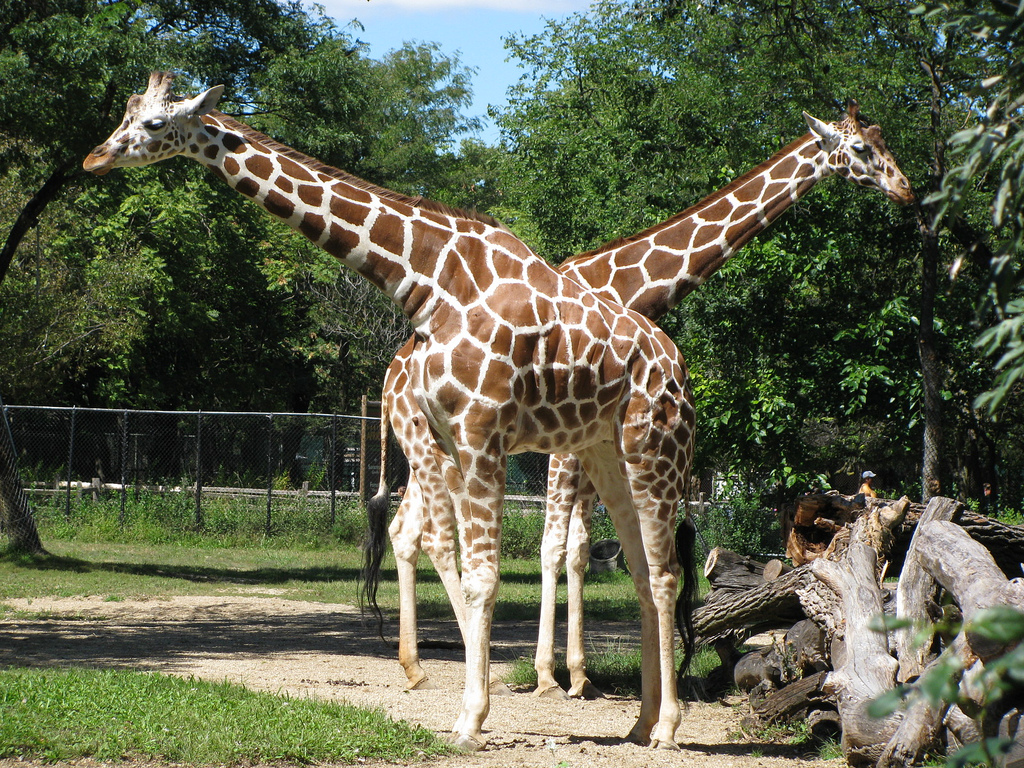giraffe: (76, 70, 695, 695), (372, 90, 943, 625)
